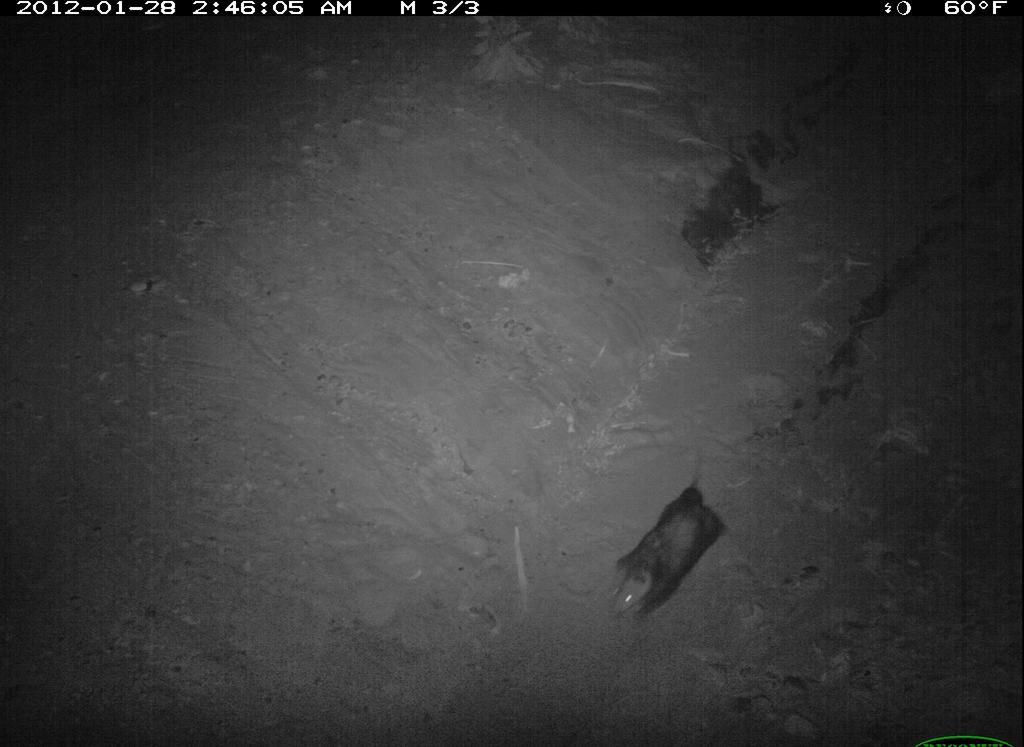opossum: (606, 469, 737, 628)
